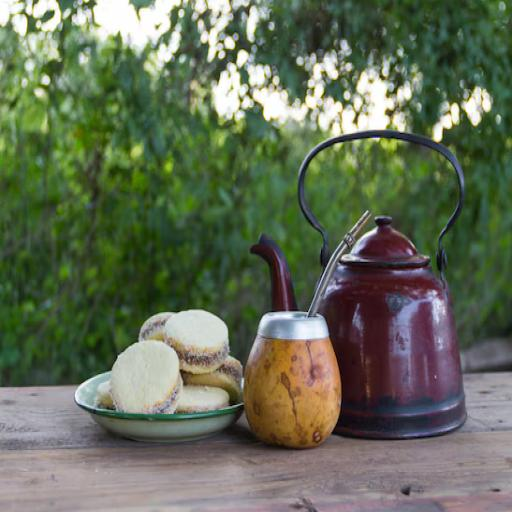bolleria: (85, 302, 241, 441)
mate: (242, 302, 342, 462)
